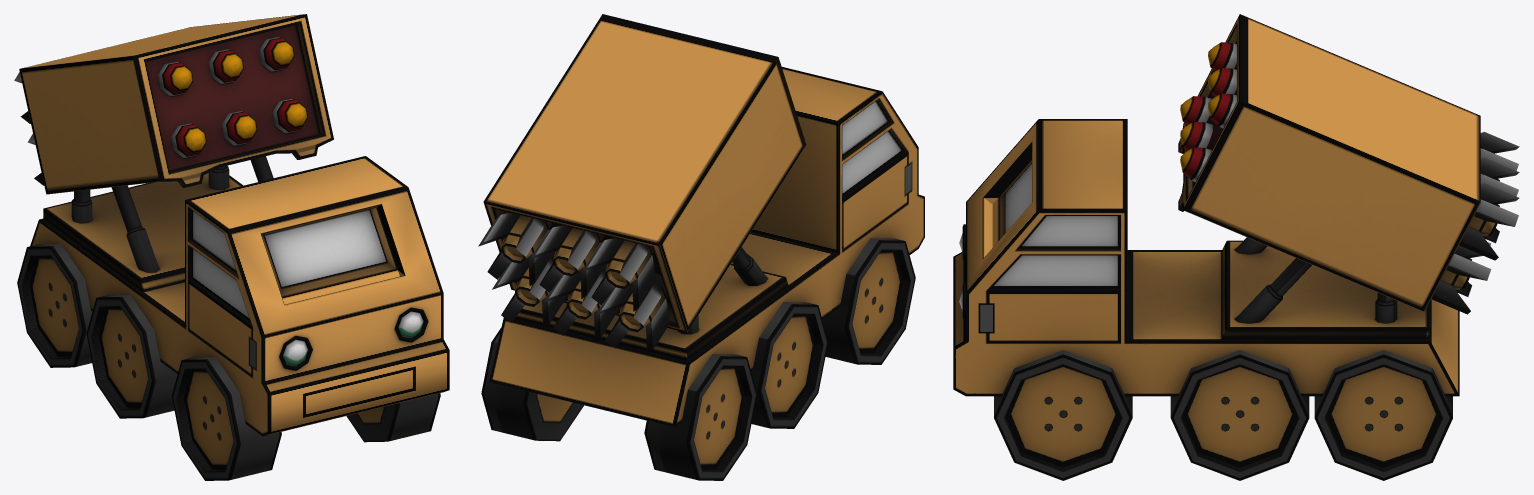
File: Rocket Launcher.fbx
3 views of the same model, side by side, from view 1: azimuth 30°, elevation 25°; view 2: azimuth 150°, elevation 25°; view 3: azimuth 270°, elevation 25° (orthographic). The views are drawn at different scales.
Parts seen in each view (by area): view 1: Rocket_Launcher; view 2: Rocket_Launcher; view 3: Rocket_Launcher.
Part boxes in pixels (left/top/right/bottom): Rocket_Launcher: left=14, top=14, right=449, bottom=480; Rocket_Launcher: left=478, top=14, right=924, bottom=480; Rocket_Launcher: left=953, top=14, right=1519, bottom=480.
Bounding box in the file's own units: 3.22 × 5.46 × 7.53.
1 material, 1 textured.
